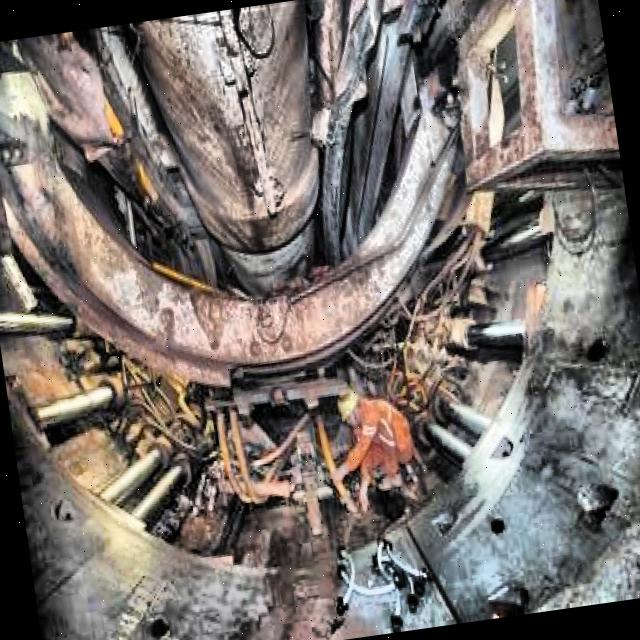helmet: (332, 384, 370, 434)
